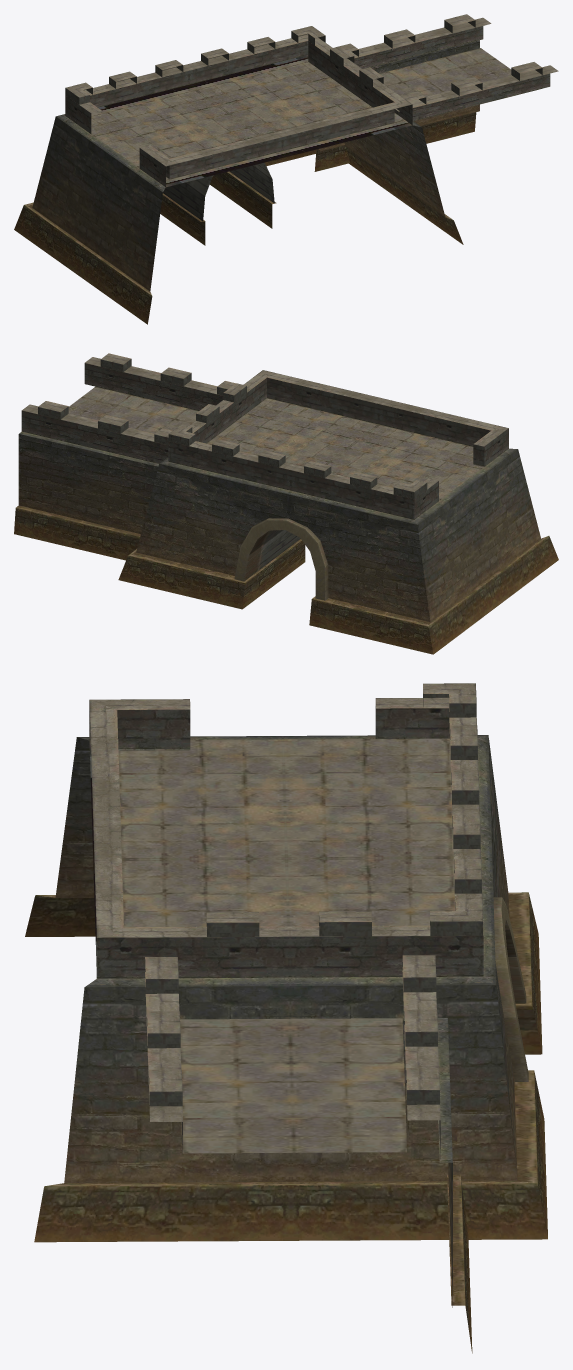
The model's file is SC001Jchengqiang_01.FBX.
3 views of the same model, one above another, from view 1: azimuth 30°, elevation 25°; view 2: azimuth 150°, elevation 25°; view 3: azimuth 270°, elevation 25° (orthographic). The views are drawn at different scales.
Visible parts, largest first — view 1: SC001Jchengqiang; view 2: SC001Jchengqiang; view 3: SC001Jchengqiang.
Part boxes in pixels (x1,y1,x2,y2): SC001Jchengqiang: (14,14,558,324); SC001Jchengqiang: (14,353,558,654); SC001Jchengqiang: (25,683,547,1353).
Bounding box in the file's own units: 13.66 × 4.24 × 7.07.
